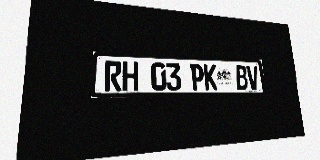0: (151, 62, 166, 91)
3: (166, 63, 181, 91)
B: (235, 65, 248, 90)
H: (122, 61, 139, 91)
K: (203, 64, 218, 90)
P: (190, 64, 204, 90)
R: (104, 61, 122, 91)
V: (246, 66, 260, 90)
